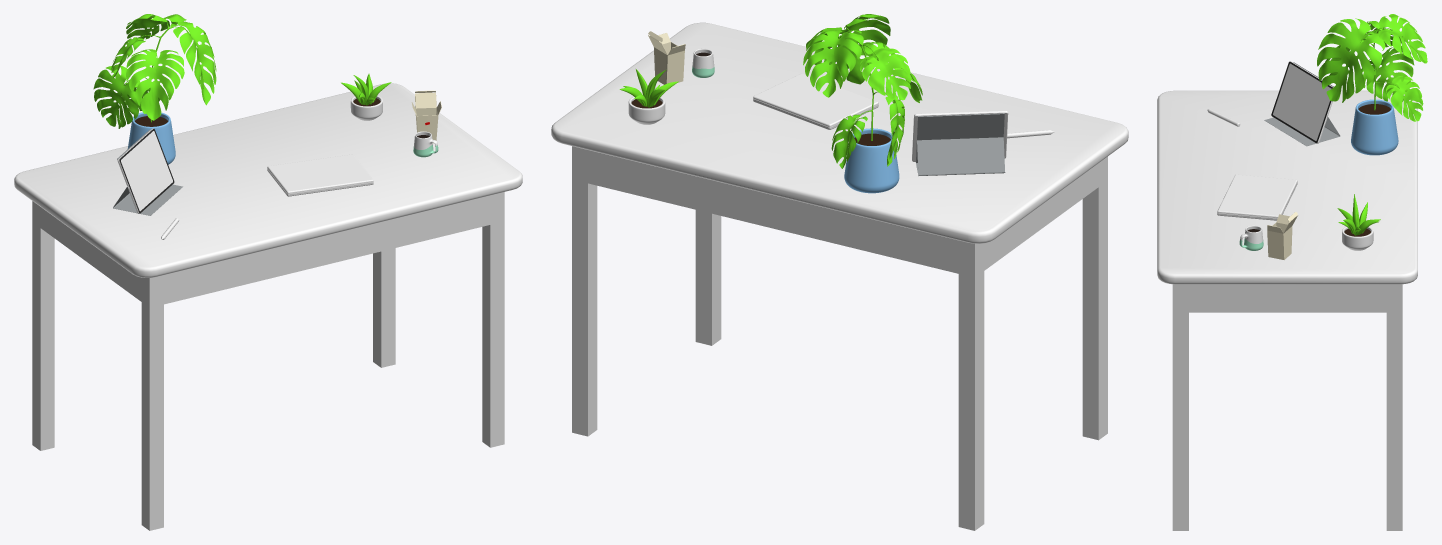
File: desk2.gltf
3 renders of one model, left to right at view 1: azimuth 30°, elevation 25°; view 2: azimuth 150°, elevation 25°; view 3: azimuth 270°, elevation 25°, orthographic. The views are drawn at different scales.
Parts seen in each view (by area): view 1: tabletop.001, Cube.001, Laptop.001, monstera leaf.005, Plane.001, monstera leaf.004, monstera leaf.003, Vert.003, Vert, monstera leaf.002, Plane; view 2: tabletop.001, Cube.001, Plane, Laptop.001, monstera leaf.002, Vert, monstera leaf.006, monstera leaf.003, Vert.003, monstera leaf.007, monstera leaf.004, Plane.001; view 3: tabletop.001, Cube.001, monstera leaf.003, Plane.001, Laptop.001, Vert, monstera leaf.002, monstera leaf.004, monstera leaf.007, Vert.003, Plane, Vert.002 (+1 smaller).
Boxes of the visible parts, x1=… form: tabletop.001: x1=14, y1=83, x2=522, y2=277; Cube.001: x1=32, y1=192, x2=504, y2=530; Laptop.001: x1=267, y1=154, x2=373, y2=193; monstera leaf.005: x1=126, y1=49, x2=184, y2=120; Plane.001: x1=117, y1=128, x2=173, y2=213; monstera leaf.004: x1=93, y1=65, x2=142, y2=128; monstera leaf.003: x1=170, y1=21, x2=216, y2=105; Vert.003: x1=411, y1=90, x2=441, y2=143; Vert: x1=127, y1=112, x2=175, y2=164; monstera leaf.002: x1=126, y1=14, x2=186, y2=40; Plane: x1=113, y1=129, x2=182, y2=215; tabletop.001: x1=551, y1=22, x2=1128, y2=243; Cube.001: x1=572, y1=146, x2=1107, y2=530; Plane: x1=915, y1=113, x2=1005, y2=175; Laptop.001: x1=753, y1=73, x2=878, y2=127; monstera leaf.002: x1=803, y1=30, x2=863, y2=97; Vert: x1=844, y1=128, x2=899, y2=193; monstera leaf.006: x1=860, y1=48, x2=910, y2=100; monstera leaf.003: x1=806, y1=14, x2=890, y2=84; Vert.003: x1=648, y1=31, x2=685, y2=84; monstera leaf.007: x1=831, y1=114, x2=867, y2=168; monstera leaf.004: x1=884, y1=92, x2=904, y2=166; Plane.001: x1=912, y1=111, x2=1008, y2=161; tabletop.001: x1=1157, y1=90, x2=1417, y2=284; Cube.001: x1=1172, y1=284, x2=1402, y2=530; monstera leaf.003: x1=1317, y1=18, x2=1385, y2=102; Plane.001: x1=1273, y1=61, x2=1333, y2=143; Laptop.001: x1=1217, y1=174, x2=1297, y2=218; Vert: x1=1351, y1=99, x2=1398, y2=155; monstera leaf.002: x1=1378, y1=14, x2=1427, y2=63; monstera leaf.004: x1=1361, y1=46, x2=1414, y2=101; monstera leaf.007: x1=1386, y1=76, x2=1423, y2=121; Vert.003: x1=1267, y1=212, x2=1297, y2=259; Plane: x1=1264, y1=62, x2=1340, y2=146; Vert.002: x1=1342, y1=226, x2=1373, y2=250.
Size of the model in its own units: 1.97 by 1.96 by 1.21.
